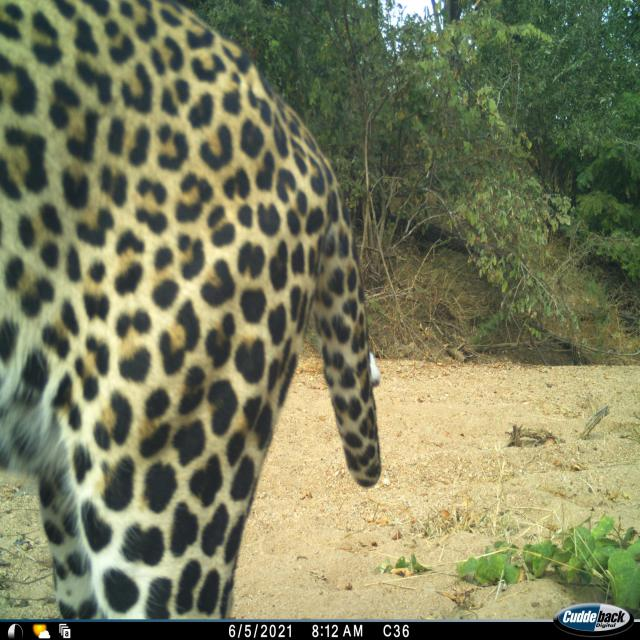Leopard: (15, 0, 394, 640)
